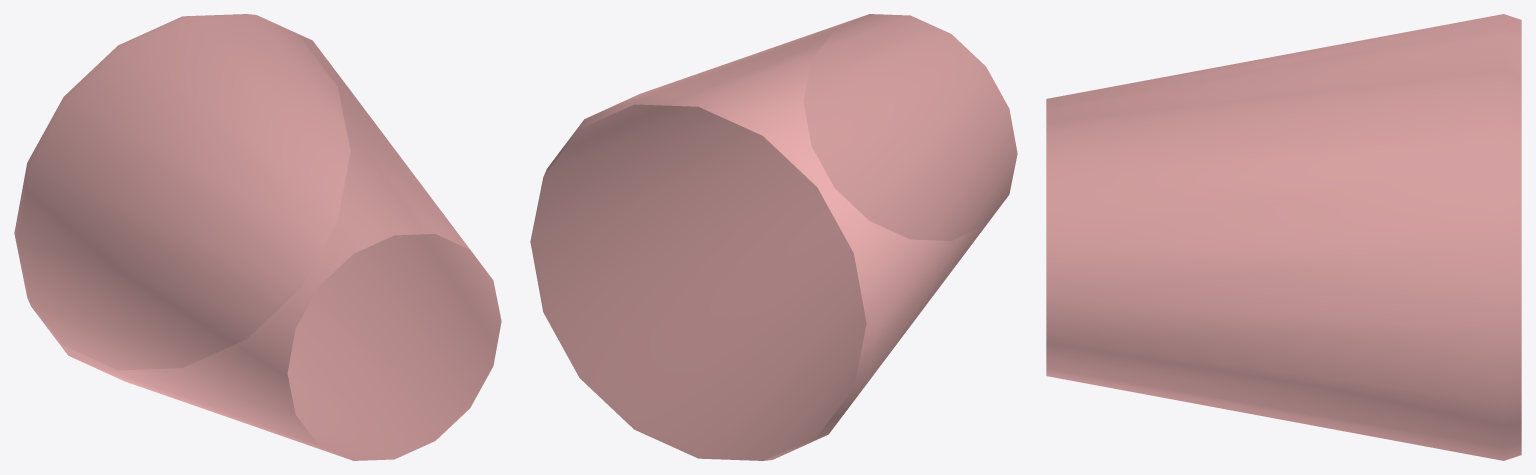
File: MeshSoapBottleVolume_23_1.obj
3 renders of one model, left to right at view 1: azimuth 30°, elevation 25°; view 2: azimuth 150°, elevation 25°; view 3: azimuth 270°, elevation 25°, orthographic. The views are drawn at different scales.
Visible parts, largest first — view 1: SoapBottleVolume_23; view 2: SoapBottleVolume_23; view 3: SoapBottleVolume_23.
Part boxes in pixels (left/top/right/bottom): SoapBottleVolume_23: left=14, top=14, right=501, bottom=460; SoapBottleVolume_23: left=530, top=14, right=1017, bottom=460; SoapBottleVolume_23: left=1046, top=14, right=1521, bottom=460.
Bounding box in the file's own units: 0.1101 × 0.1101 × 0.117.
